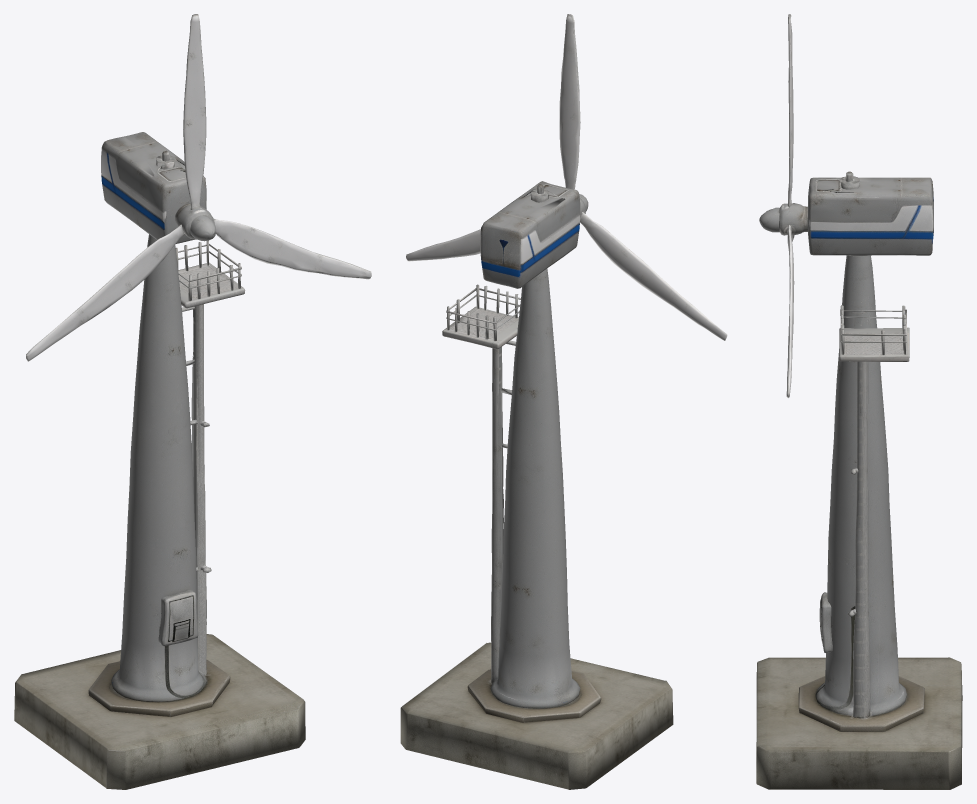
The model's file is Rüzgar Gülü.fbx.
3 views of the same model, side by side, from view 1: azimuth 30°, elevation 25°; view 2: azimuth 150°, elevation 25°; view 3: azimuth 270°, elevation 25° (orthographic). The views are drawn at different scales.
Parts seen in each view (by area): view 1: Mesh_0; view 2: Mesh_0; view 3: Mesh_0.
Boxes of the visible parts, box(x1,y1,x2,y2) form: Mesh_0: box(14, 14, 371, 789); Mesh_0: box(400, 14, 727, 789); Mesh_0: box(756, 14, 962, 789).
Bounding box in the file's own units: 48.63 × 100 × 25.72.
Materials: 1 (1 with a texture image).
